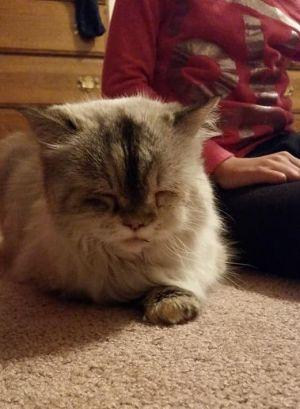persian: (25, 86, 217, 263)
